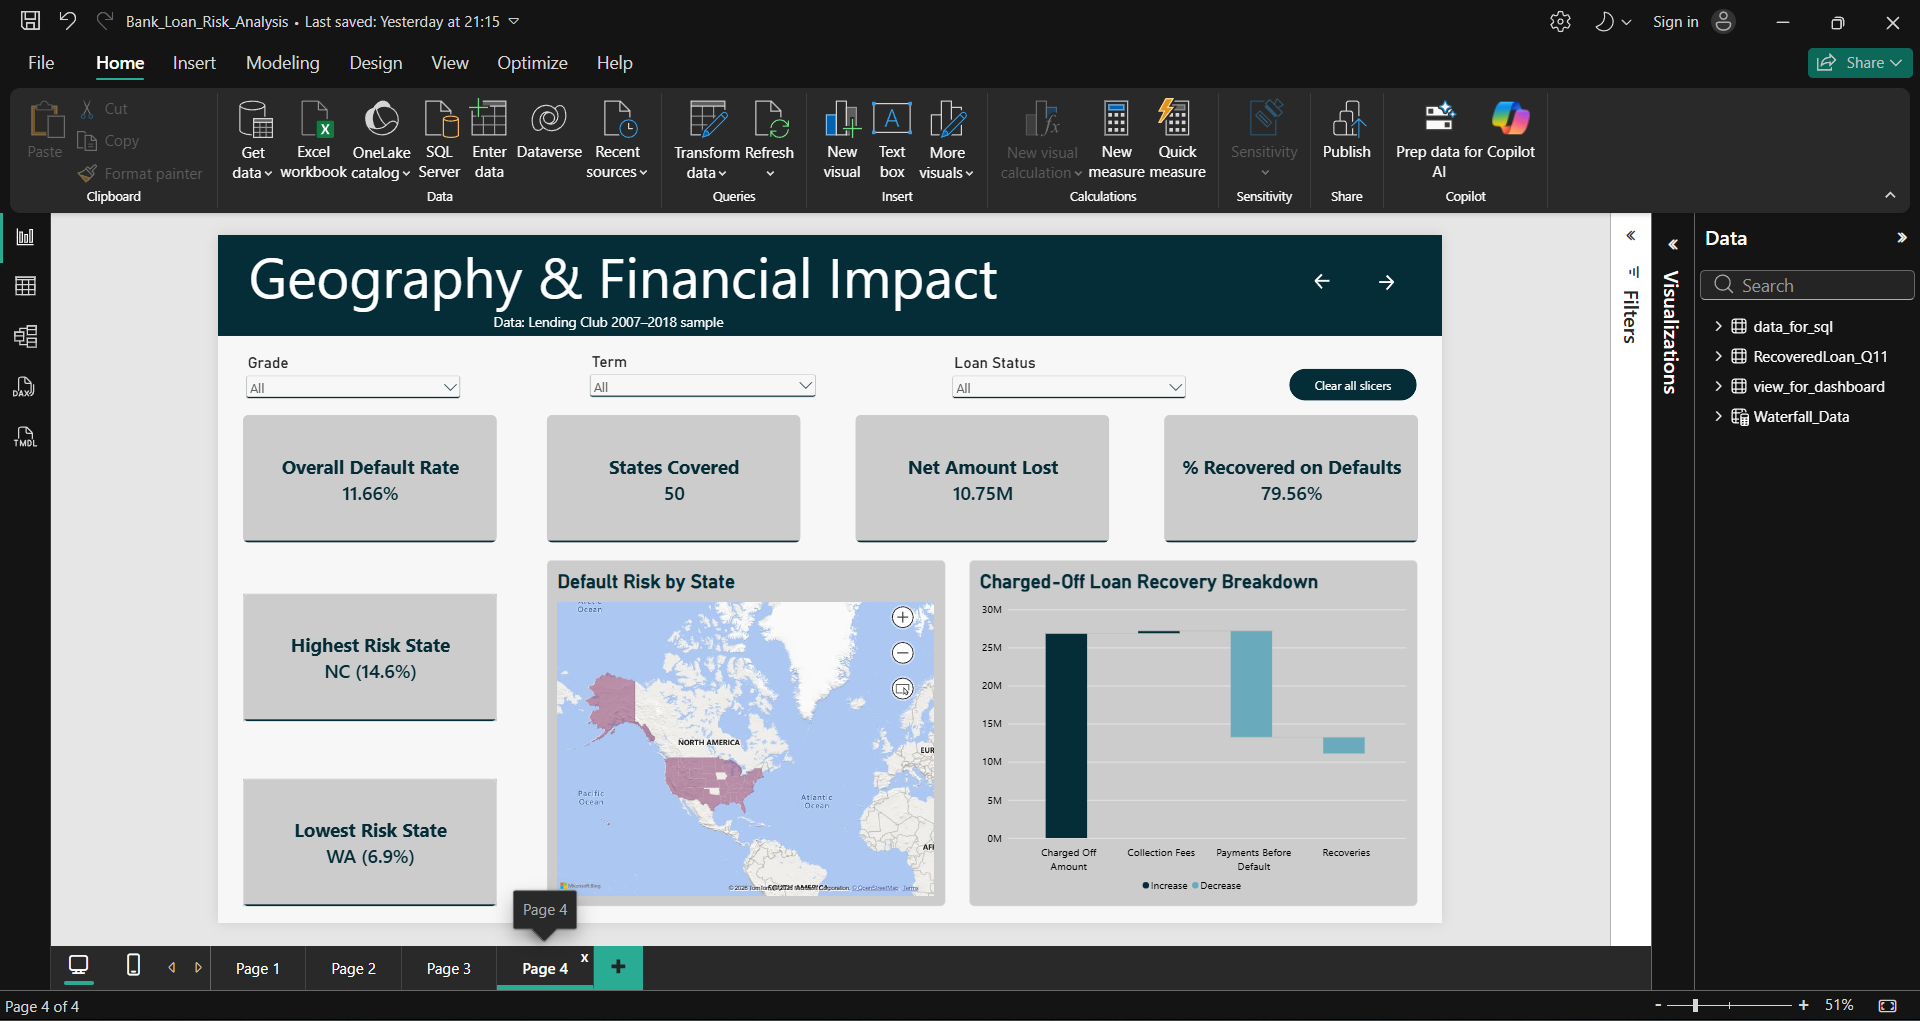

The page's visual inventory and layout, read from the dashboard file:
{"tool":"powerbi","page":{"name":"Page 4","canvas":[1920,1080],"ordinal":3},"visuals":[{"type":"textbox","box":[0,0,1919.6,158.3],"z":0},{"type":"cardVisual","title":"Overall Default Rate","fields":{"Data":["view_for_dashboard.Default Rate %"]},"box":[39.2,282.4,398,200],"z":1000},{"type":"cardVisual","fields":{"Data":["view_for_dashboard.Pct_Amount_Recover"]},"box":[1484.3,282.4,398,200],"z":2000},{"type":"cardVisual","fields":{"Data":["Count(view_for_dashboard.Address_State)"]},"box":[515.7,282.4,398,200],"z":3000},{"type":"cardVisual","fields":{"Data":["Sum(view_for_dashboard.Net_Amount_Lost)"]},"box":[1000,282.4,398,200],"z":4000},{"type":"actionButton","box":[1680.4,209.8,200,50],"z":5000},{"type":"actionButton","box":[1782,54,100,40],"z":6000},{"type":"actionButton","box":[1682.2,53.4,100,40],"z":7000},{"type":"filledMap","title":"Default Risk by State","fields":{"Category":["view_for_dashboard.Address_State_USA"]},"box":[515.3,509.8,625.5,543.1],"z":8000},{"type":"waterfallChart","title":"Charged-Off Loan Recovery Breakdown","fields":{"Category":["Waterfall_Data.Category"],"Y":["Sum(Waterfall_Data.Amount)"]},"box":[1177.9,509.8,703.1,542.9],"z":9000},{"type":"slicer","fields":{"Values":["view_for_dashboard.Grade"]},"box":[38.7,185.9,346,74],"z":10000},{"type":"slicer","fields":{"Values":["view_for_dashboard.Term"]},"box":[577.9,184.1,364,74],"z":11000},{"type":"slicer","fields":{"Values":["view_for_dashboard.Loan_Status_Grouped"]},"box":[1146.6,185.9,376,74],"z":12000},{"type":"cardVisual","fields":{"Data":["view_for_dashboard.Lowest_Risk_State_Display"]},"box":[38.7,852.2,398,200],"z":13000},{"type":"cardVisual","fields":{"Data":["view_for_dashboard.Highest_Risk_State_Display"]},"box":[38.7,563.2,398,200],"z":14000}]}

Visuals, with their boxes on the page's 1920x1080 design canvas (x1, y1, x2, y2). These are canvas units, not pixel positions in the 1920x1021 screenshot, which may show the page scaled, cropped or inside an application window:
textbox: crop(0, 0, 1920, 158)
"Overall Default Rate" cardVisual: crop(39, 282, 437, 482)
cardVisual - view_for_dashboard.Pct_Amount_Recover: crop(1484, 282, 1882, 482)
cardVisual - Count(view_for_dashboard.Address_State): crop(516, 282, 914, 482)
cardVisual - Sum(view_for_dashboard.Net_Amount_Lost): crop(1000, 282, 1398, 482)
actionButton: crop(1680, 210, 1880, 260)
actionButton: crop(1782, 54, 1882, 94)
actionButton: crop(1682, 53, 1782, 93)
"Default Risk by State" filledMap: crop(515, 510, 1141, 1053)
"Charged-Off Loan Recovery Breakdown" waterfallChart: crop(1178, 510, 1881, 1053)
slicer - view_for_dashboard.Grade: crop(39, 186, 385, 260)
slicer - view_for_dashboard.Term: crop(578, 184, 942, 258)
slicer - view_for_dashboard.Loan_Status_Grouped: crop(1147, 186, 1523, 260)
cardVisual - view_for_dashboard.Lowest_Risk_State_Display: crop(39, 852, 437, 1052)
cardVisual - view_for_dashboard.Highest_Risk_State_Display: crop(39, 563, 437, 763)
